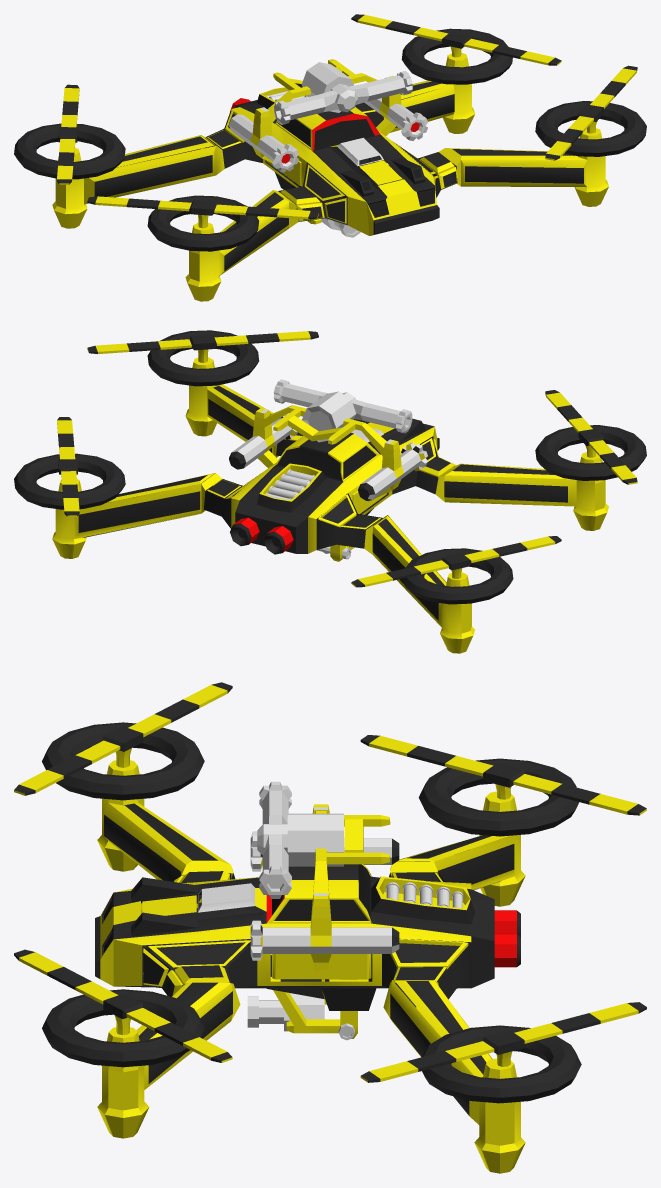
The model's file is drone.glb.
3 renders of one model, top to bottom at view 1: azimuth 30°, elevation 25°; view 2: azimuth 150°, elevation 25°; view 3: azimuth 270°, elevation 25°, orthographic. The views are drawn at different scales.
Visible parts, largest first — view 1: drone_costum; view 2: drone_costum; view 3: drone_costum.
Boxes of the visible parts, bbox=[...] form: drone_costum: bbox=[14, 14, 646, 301]; drone_costum: bbox=[14, 330, 646, 653]; drone_costum: bbox=[14, 682, 646, 1173].
Size of the model in its own units: 12.4 by 3.35 by 8.76.
